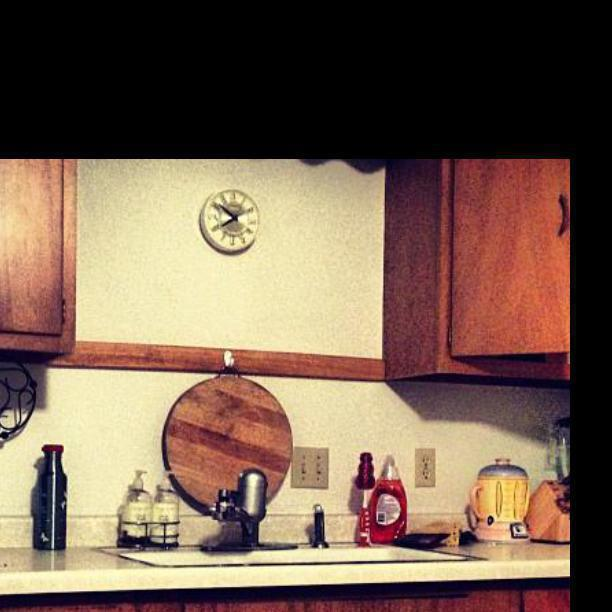Lavaplatos: (134, 471, 484, 570)
